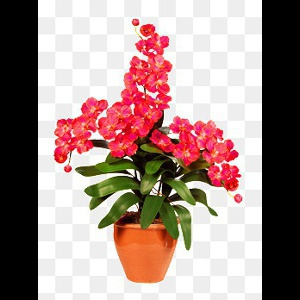flowerpot: (114, 211, 180, 283)
